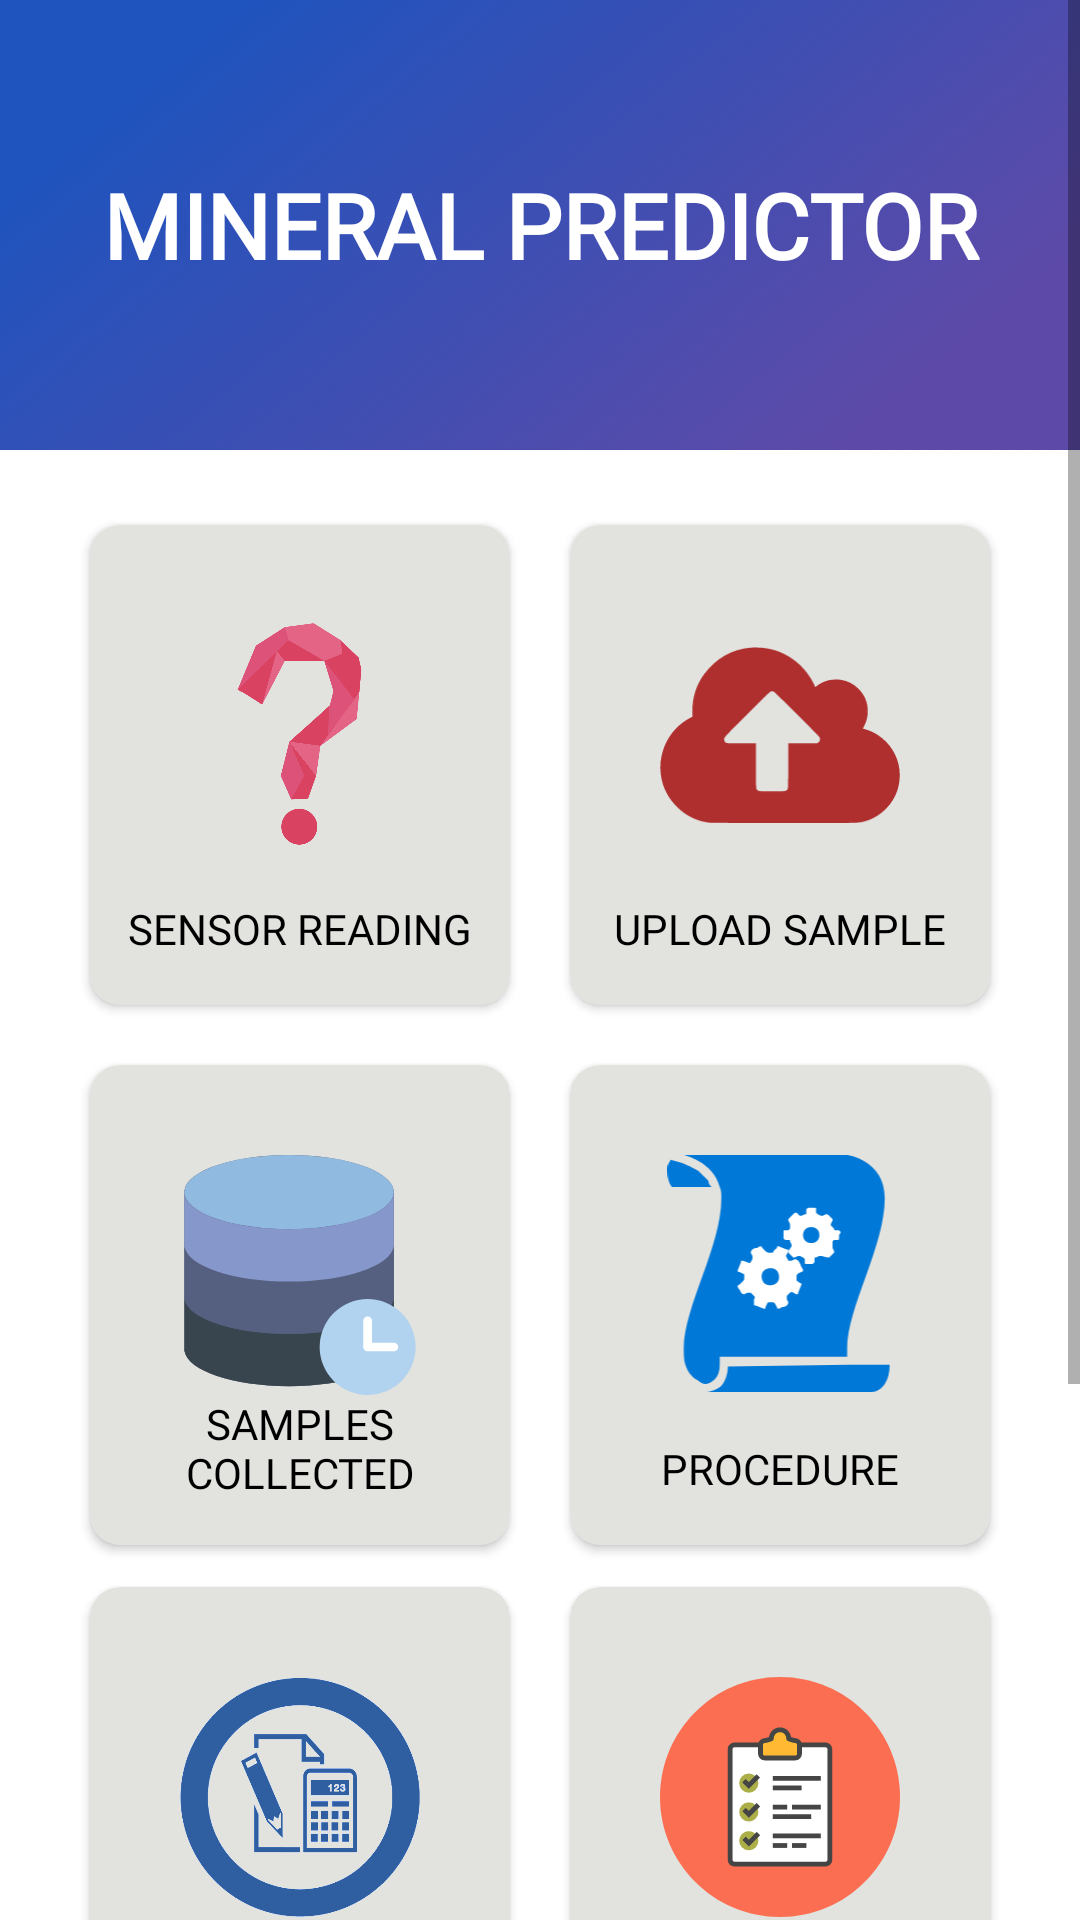

Named icons in this screenshot (1080×1920) and their centers, (x,y):
database: (300,1275)
estimate: (300,1797)
